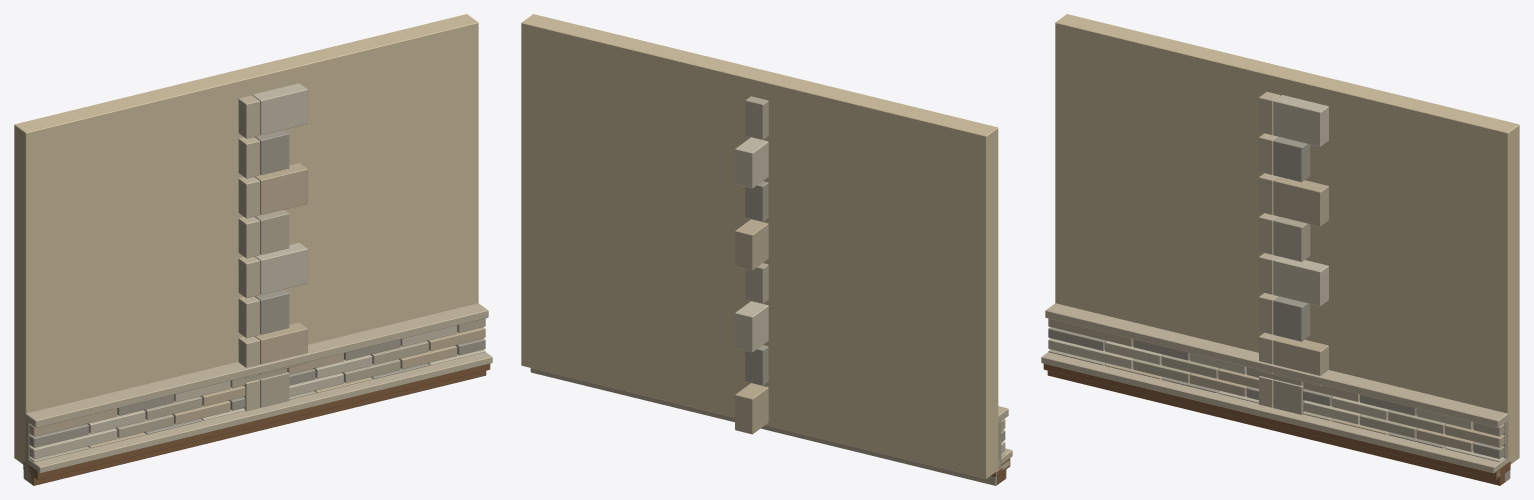
File: wsc-arch-003-town-facade-grid.glb
3 views of the same model, side by side, from view 1: azimuth 30°, elevation 25°; view 2: azimuth 150°, elevation 25°; view 3: azimuth 330°, elevation 25° (orthographic). The views are drawn at different scales.
Parts seen in each view (by area): view 1: Wall, Plinth, Turn, Eave; view 2: Wall, Turn, Stringcourse; view 3: Wall, Plinth, Turn, Eave.
Part boxes in pixels (box(x1,y1,x2,y2)): Wall: box(14, 14, 478, 464); Plinth: box(23, 303, 488, 467); Turn: box(238, 83, 307, 411); Eave: box(23, 352, 492, 485); Wall: box(521, 14, 998, 478); Turn: box(735, 96, 768, 434); Stringcourse: box(530, 368, 1009, 485); Wall: box(1055, 14, 1519, 464); Plinth: box(1045, 303, 1510, 462); Turn: box(1259, 92, 1328, 414); Eave: box(1041, 352, 1510, 485).
Size of the model in its own units: 4.4 by 3.23 by 0.694.
